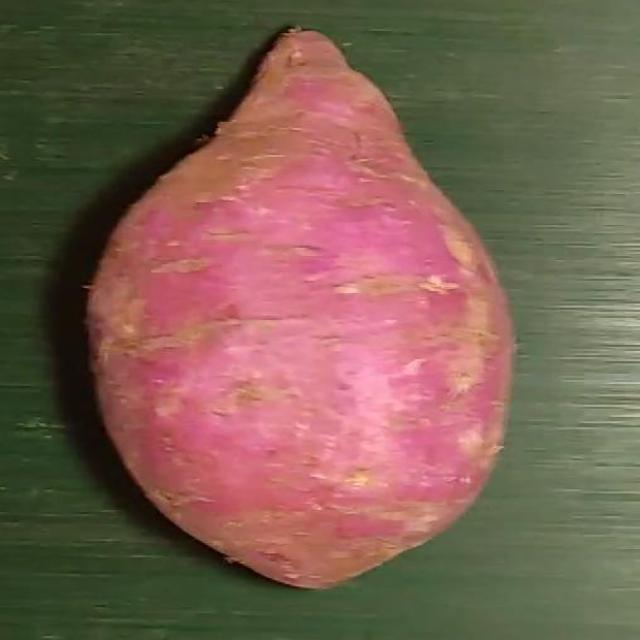Sweet Potato: (88, 25, 515, 591)
